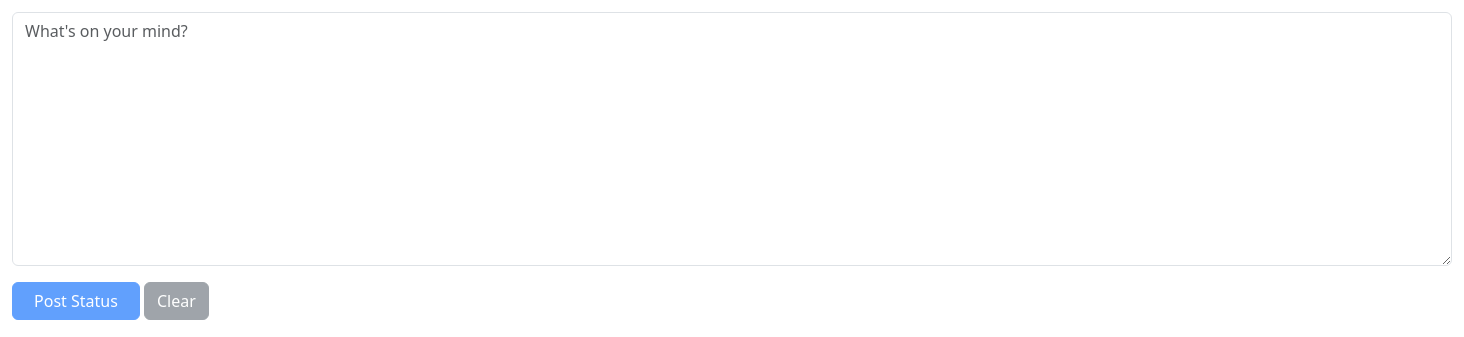
PostStatus component › Post status and Clear buttons are enabled when the text field has text
The width and height of the screenshot is (1464, 337).
Type "test" into the text box named "status-text". click: (732, 139)
box: [12,12,1452,266]
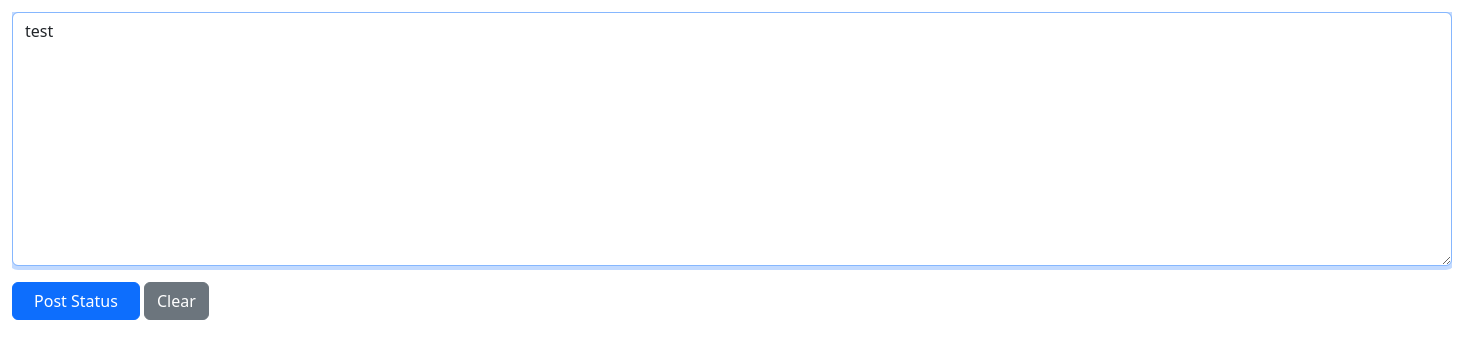
Expected: the button "Post Status" is enabled, [12,282,140,320]
Expected: the button "Clear" is enabled, [144,282,209,320]
